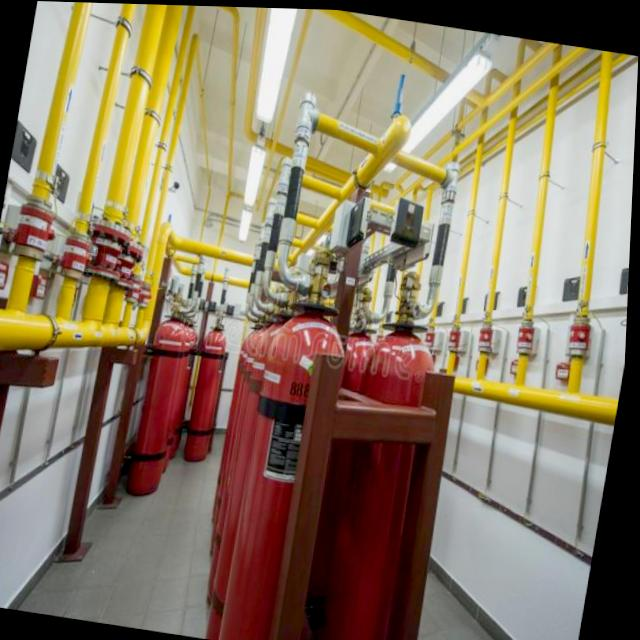FireExtinguisher: (217, 275, 365, 640), (320, 294, 466, 640), (127, 294, 199, 502), (181, 307, 239, 467)
